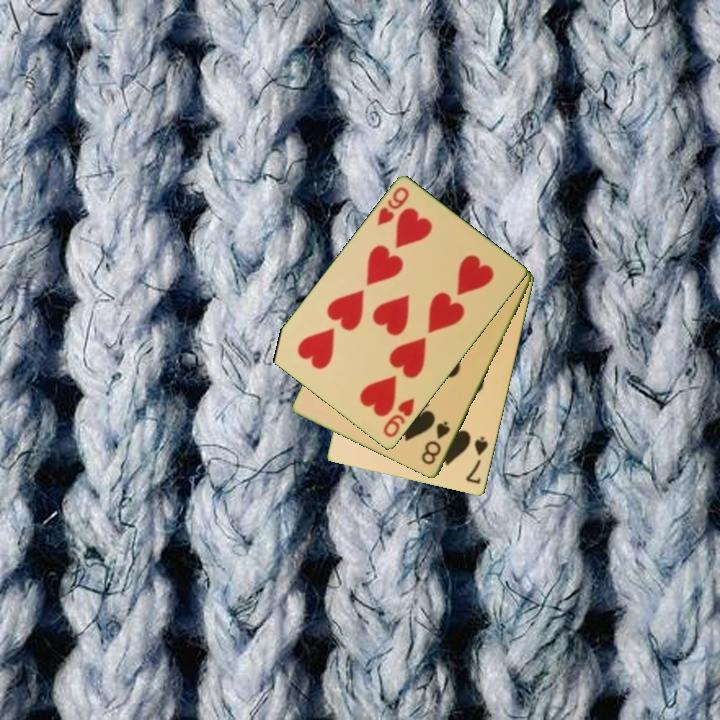7s: (463, 433, 491, 487)
8s: (418, 418, 453, 468)
9h: (380, 394, 418, 441), (374, 183, 412, 229)
